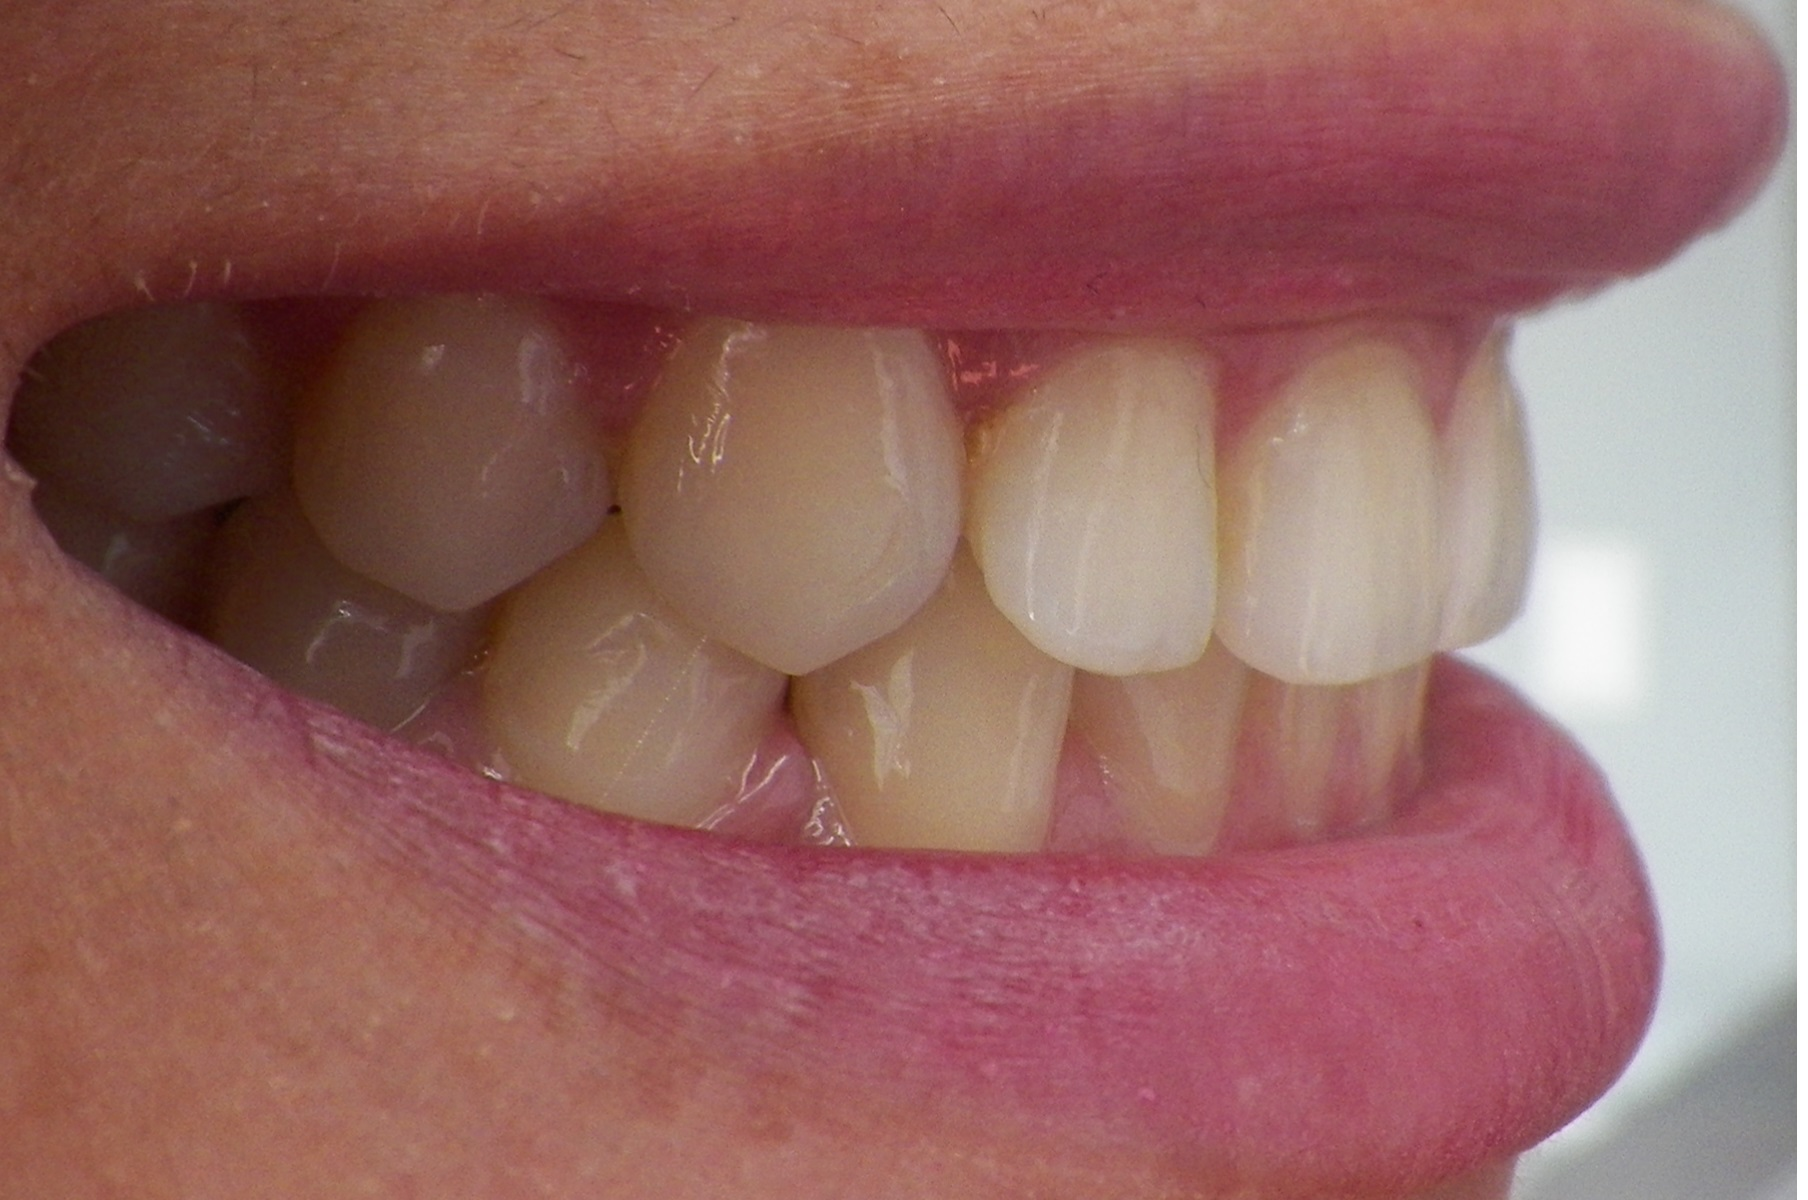boca: (24, 309, 1543, 867)
